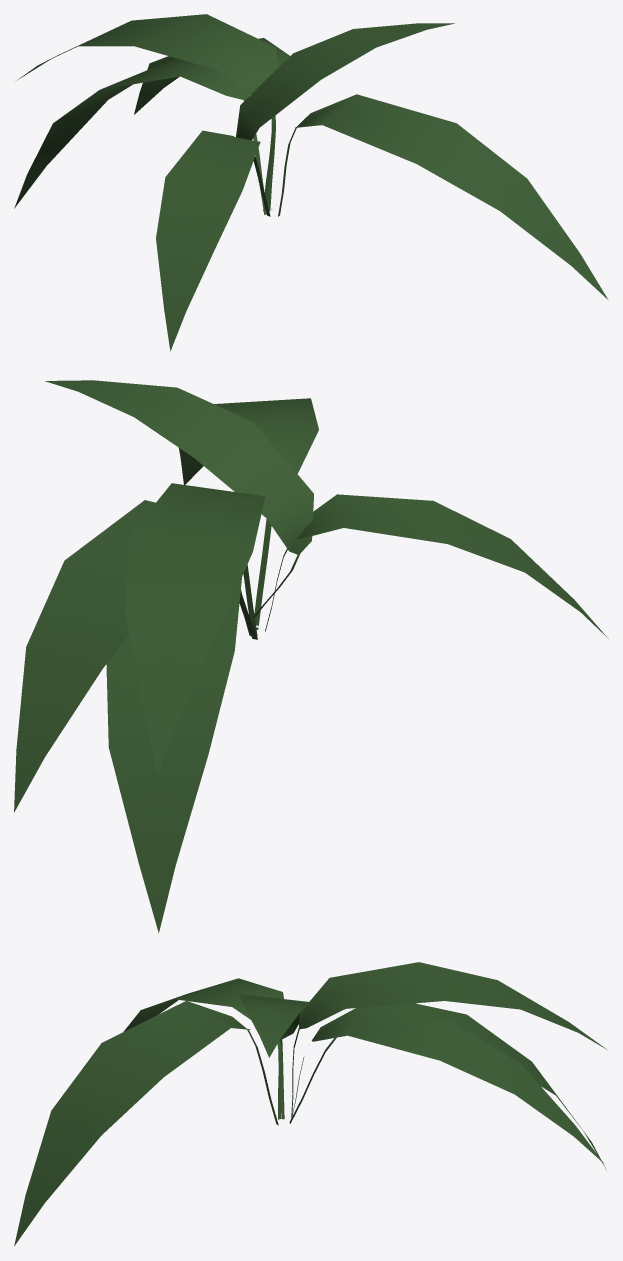
Rendered from Chinese Evergreen.fbx.
The picture shows the model from 3 angles, top to bottom: view 1: azimuth 30°, elevation 25°; view 2: azimuth 150°, elevation 25°; view 3: azimuth 270°, elevation 25°; orthographic projection. The views are drawn at different scales.
Parts seen in each view (by area): view 1: Chinese Evergreen|Chinese Evergreen Leaf|Dupli|2, Chinese Evergreen|Chinese Evergreen Leaf|Dupli|3, Chinese Evergreen|Chinese Evergreen Leaf|Dupli|4, Chinese Evergreen|Chinese Evergreen Leaf|Dupli|1, Chinese Evergreen|Chinese Evergreen Leaf|Dupli|5, Chinese Evergreen|Chinese Evergreen Leaf|Dupli|; view 2: Chinese Evergreen|Chinese Evergreen Leaf|Dupli|4, Chinese Evergreen|Chinese Evergreen Leaf|Dupli|5, Chinese Evergreen|Chinese Evergreen Leaf|Dupli|, Chinese Evergreen|Chinese Evergreen Leaf|Dupli|1, Chinese Evergreen|Chinese Evergreen Leaf|Dupli|3, Chinese Evergreen|Chinese Evergreen Leaf|Dupli|2; view 3: Chinese Evergreen|Chinese Evergreen Leaf|Dupli|2, Chinese Evergreen|Chinese Evergreen Leaf|Dupli|, Chinese Evergreen|Chinese Evergreen Leaf|Dupli|4, Chinese Evergreen|Chinese Evergreen Leaf|Dupli|1, Chinese Evergreen|Chinese Evergreen Leaf|Dupli|5, Chinese Evergreen|Chinese Evergreen Leaf|Dupli|3.
Boxes of the visible parts, box(x1,y1,x2,y2) form: Chinese Evergreen|Chinese Evergreen Leaf|Dupli|2: box(278, 94, 608, 299); Chinese Evergreen|Chinese Evergreen Leaf|Dupli|3: box(156, 130, 270, 351); Chinese Evergreen|Chinese Evergreen Leaf|Dupli|4: box(17, 14, 279, 211); Chinese Evergreen|Chinese Evergreen Leaf|Dupli|1: box(236, 23, 454, 182); Chinese Evergreen|Chinese Evergreen Leaf|Dupli|5: box(14, 58, 266, 214); Chinese Evergreen|Chinese Evergreen Leaf|Dupli|: box(134, 38, 289, 211); Chinese Evergreen|Chinese Evergreen Leaf|Dupli|4: box(125, 483, 265, 775); Chinese Evergreen|Chinese Evergreen Leaf|Dupli|5: box(106, 578, 257, 933); Chinese Evergreen|Chinese Evergreen Leaf|Dupli|: box(14, 500, 251, 812); Chinese Evergreen|Chinese Evergreen Leaf|Dupli|1: box(45, 380, 313, 617); Chinese Evergreen|Chinese Evergreen Leaf|Dupli|3: box(265, 494, 608, 638); Chinese Evergreen|Chinese Evergreen Leaf|Dupli|2: box(179, 398, 318, 629); Chinese Evergreen|Chinese Evergreen Leaf|Dupli|2: box(14, 1001, 278, 1246); Chinese Evergreen|Chinese Evergreen Leaf|Dupli|: box(290, 1007, 603, 1163); Chinese Evergreen|Chinese Evergreen Leaf|Dupli|4: box(291, 962, 606, 1119); Chinese Evergreen|Chinese Evergreen Leaf|Dupli|1: box(238, 994, 310, 1119); Chinese Evergreen|Chinese Evergreen Leaf|Dupli|5: box(289, 1003, 606, 1169); Chinese Evergreen|Chinese Evergreen Leaf|Dupli|3: box(123, 978, 283, 1119).
Bounding box in the file's own units: 297 × 187 × 407.
